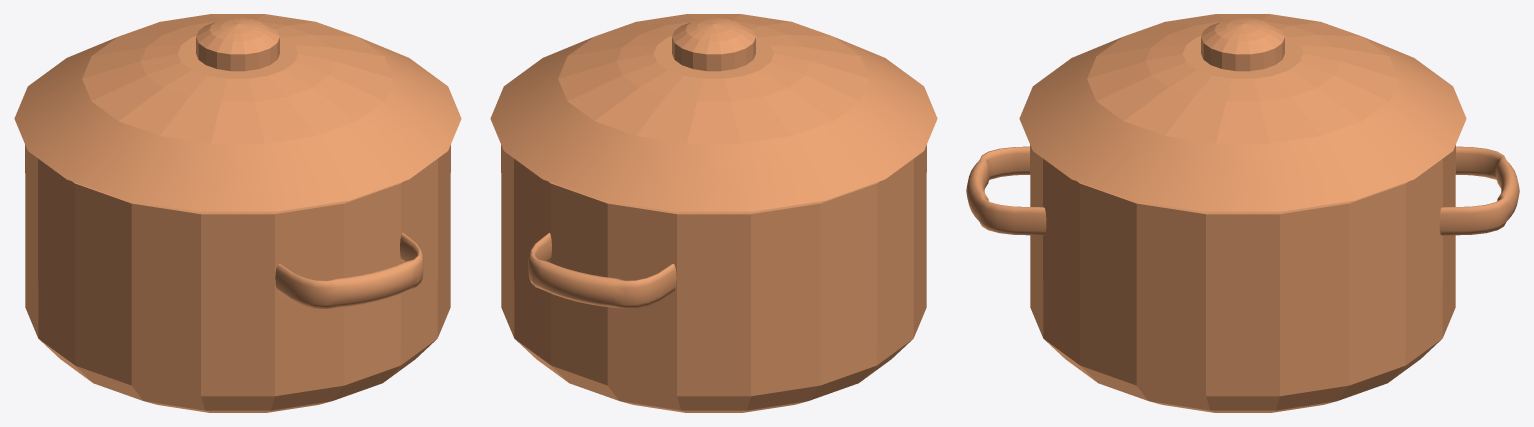
File: guo.fbx
3 views of the same model, side by side, from view 1: azimuth 30°, elevation 25°; view 2: azimuth 150°, elevation 25°; view 3: azimuth 270°, elevation 25° (orthographic).
Parts seen in each view (by area): view 1: Cylinder020; view 2: Cylinder020; view 3: Cylinder020.
Boxes of the visible parts, bbox=[...] form: Cylinder020: bbox=[14, 14, 461, 412]; Cylinder020: bbox=[490, 14, 937, 412]; Cylinder020: bbox=[966, 14, 1519, 412].
Size of the model in its own units: 5.76 by 4.75 by 7.24.
